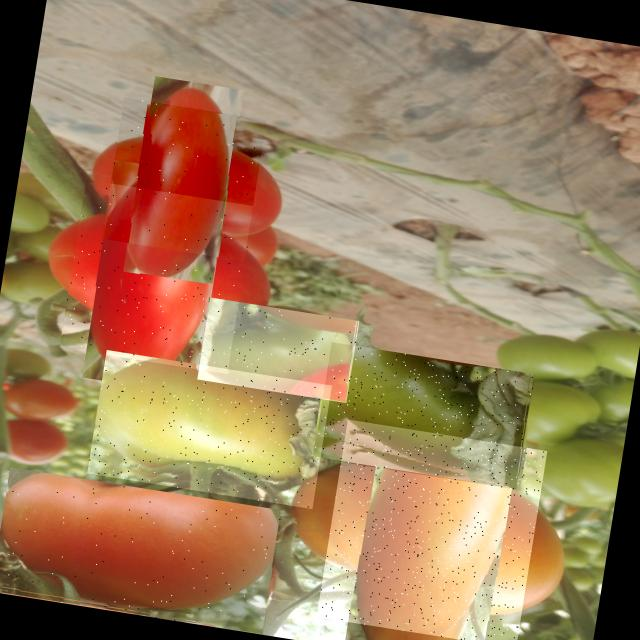Ripe Tomato: (316, 419, 547, 640), (0, 467, 282, 635), (60, 180, 254, 374), (102, 98, 267, 262), (197, 297, 359, 403)
Unripe Tomato: (87, 350, 332, 509), (314, 342, 536, 490)
